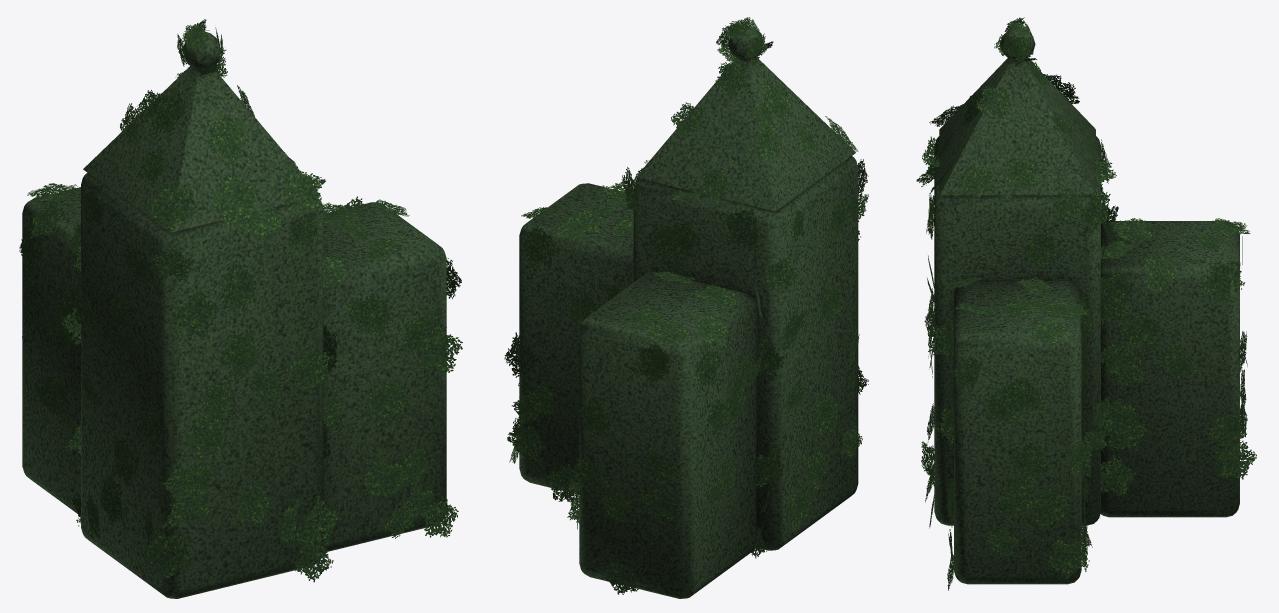
File: HedgeCorner.fbx
3 renders of one model, left to right at view 1: azimuth 30°, elevation 25°; view 2: azimuth 150°, elevation 25°; view 3: azimuth 270°, elevation 25°, orthographic. The views are drawn at different scales.
Parts seen in each view (by area): view 1: HedgeCorner_Main, HedgeCorner_Leaves; view 2: HedgeCorner_Main, HedgeCorner_Leaves; view 3: HedgeCorner_Main, HedgeCorner_Leaves.
Part boxes in pixels (x1,y1,x2,y2): HedgeCorner_Main: (22, 31, 446, 598); HedgeCorner_Leaves: (19, 19, 462, 582); HedgeCorner_Main: (519, 26, 858, 598); HedgeCorner_Leaves: (504, 17, 868, 594); HedgeCorner_Main: (934, 27, 1239, 584); HedgeCorner_Leaves: (916, 17, 1256, 590).
Size of the model in its own units: 625 by 981 by 641.
